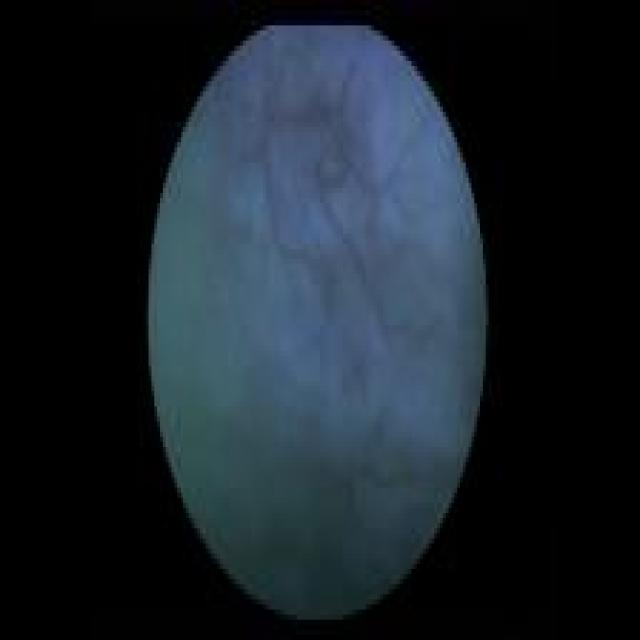color misalignment: (147, 75, 231, 578), (231, 418, 331, 620), (457, 158, 488, 470)
